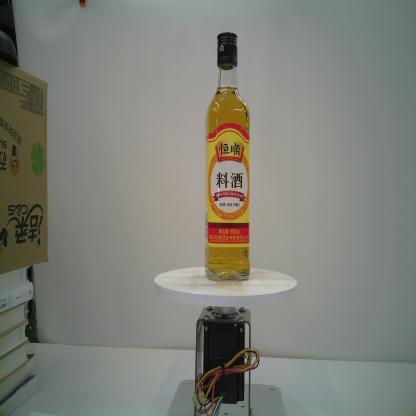Seasoner: (203, 29, 253, 281)
